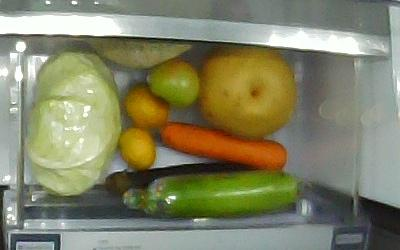cabbage: (24, 49, 122, 196)
carrot: (157, 121, 287, 171)
eggplant: (93, 163, 257, 195)
melon: (87, 38, 193, 68)
pear: (199, 46, 296, 141)
tangerine: (125, 83, 169, 129), (119, 127, 156, 169)
tomato: (146, 59, 199, 107)
zucchini: (123, 170, 301, 219)
